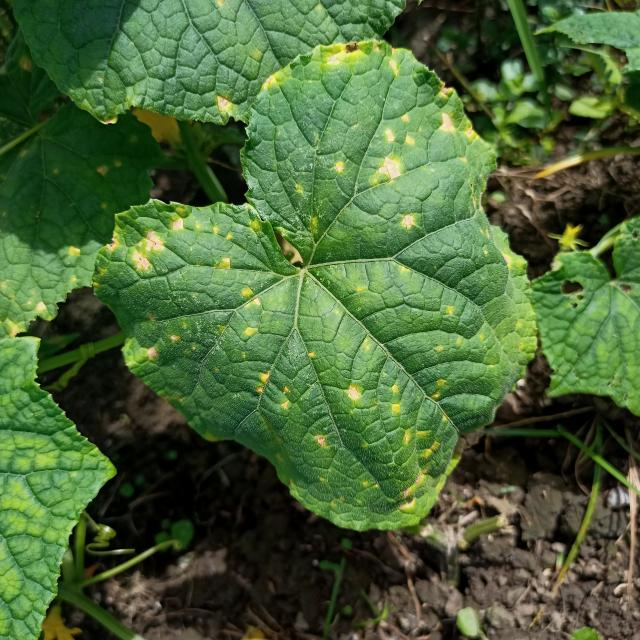disease_cucumber: (104, 43, 519, 523)
